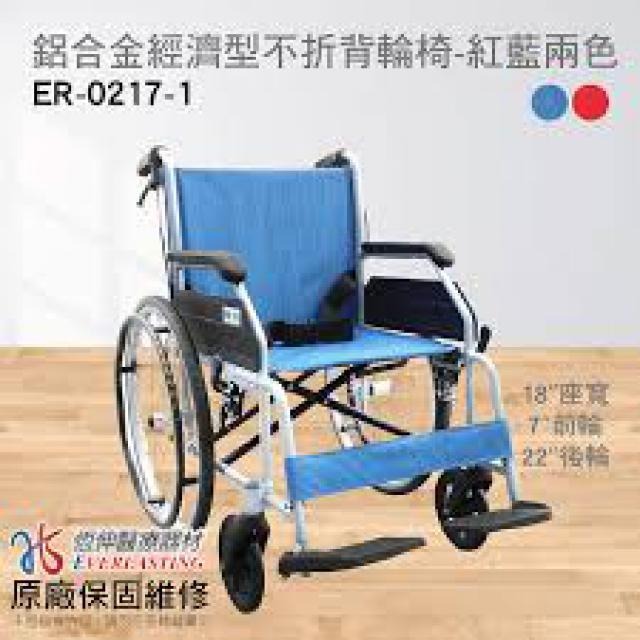wheelchair: (83, 133, 592, 618)
